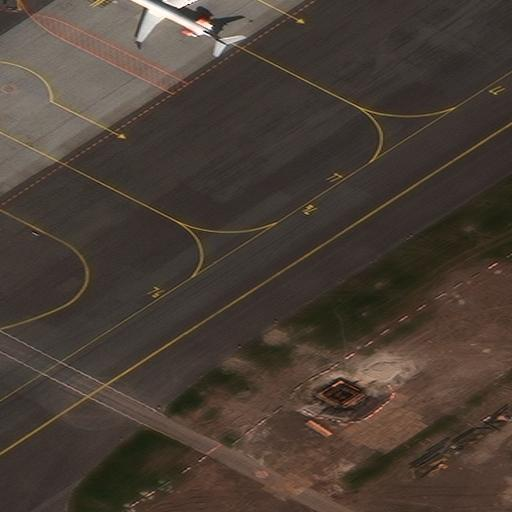Medium Civil Transport: (105, 0, 232, 47)
